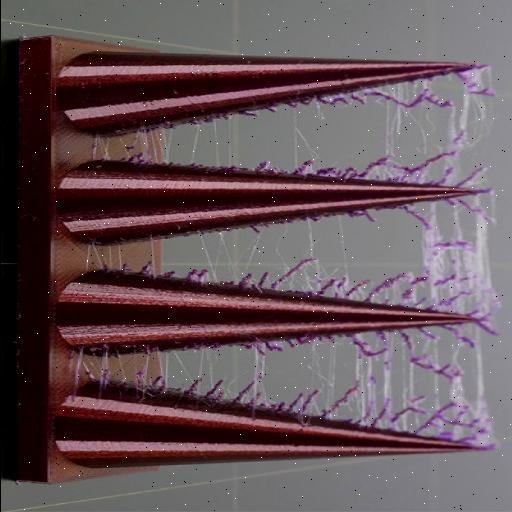stringing: (320, 326, 497, 448), (88, 342, 312, 420), (378, 74, 496, 186), (130, 258, 396, 304), (411, 198, 499, 316), (95, 114, 239, 166), (249, 160, 365, 182), (298, 90, 362, 110)
